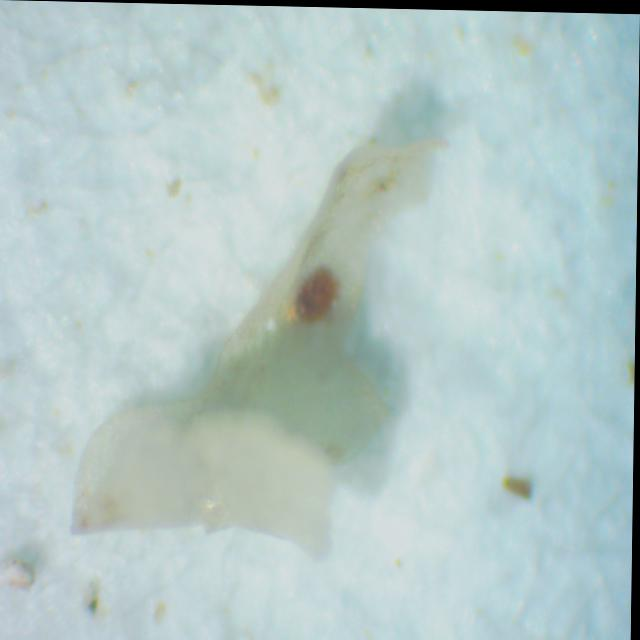microplastic: (70, 137, 438, 559)
